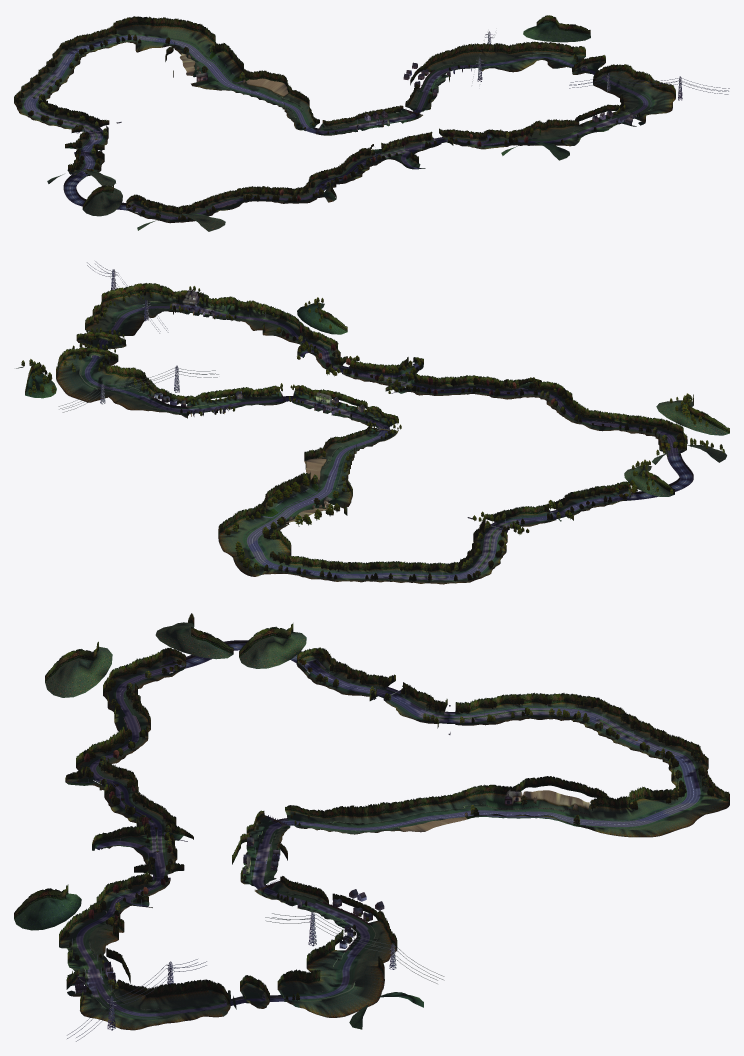
3 views of the same model, one above another, from view 1: azimuth 30°, elevation 25°; view 2: azimuth 150°, elevation 25°; view 3: azimuth 270°, elevation 25° (orthographic). The views are drawn at different scales.
Visible parts, largest first — view 1: static_objects, segment_60, segment_62, segment_98, segment_101, segment_67, segment_61, segment_66, segment_13, segment_93, segment_100, segment_92 (+19 smaller); view 2: static_objects, segment_102, segment_95, segment_101, segment_93, segment_92, segment_61, segment_62, segment_68, segment_91, segment_94, segment_13 (+6 smaller); view 3: static_objects, segment_13, segment_66, segment_94, segment_91, segment_60, segment_62, segment_68, segment_61, segment_93, segment_65, segment_99 (+27 smaller).
Boxes of the visible parts, x1,y1,x2,y2 form: static_objects: (34,15,729,231); segment_60: (127,16,160,52); segment_62: (163,19,207,47); segment_98: (593,64,631,87); segment_101: (620,82,675,104); segment_67: (186,54,241,84); segment_61: (143,17,179,50); segment_66: (173,45,234,77); segment_13: (379,140,425,169); segment_93: (522,41,558,62); segment_100: (612,73,660,98); segment_92: (499,43,534,67); static_objects: (16,261,729,577); segment_102: (125,283,163,317); segment_95: (62,347,118,366); segment_101: (101,287,152,317); segment_93: (58,362,113,397); segment_92: (75,365,127,402); segment_61: (220,530,289,554); segment_62: (218,520,278,545); segment_68: (299,472,352,507); segment_91: (101,367,145,399); segment_94: (56,354,109,382); segment_13: (382,357,423,393); static_objects: (14,613,596,1041); segment_13: (92,826,187,851); segment_66: (520,776,571,818); segment_94: (300,970,352,1017); segment_91: (306,947,383,975); segment_60: (643,787,725,820); segment_62: (623,795,678,837); segment_68: (464,784,504,817); segment_61: (629,786,696,829); segment_93: (316,970,379,1013); segment_65: (547,781,596,825); segment_99: (170,980,210,1020).
Size of the model in its own units: 1377 by 81.17 by 1002.
158 materials, 158 textured.
